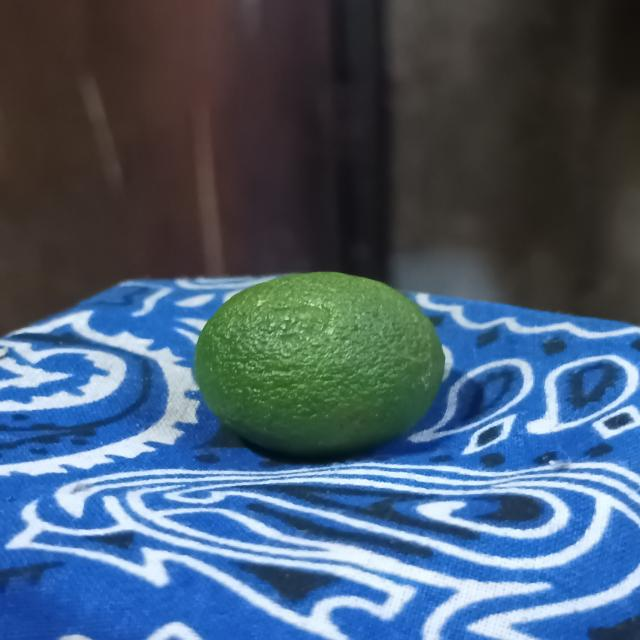heathy: (187, 273, 451, 463)
